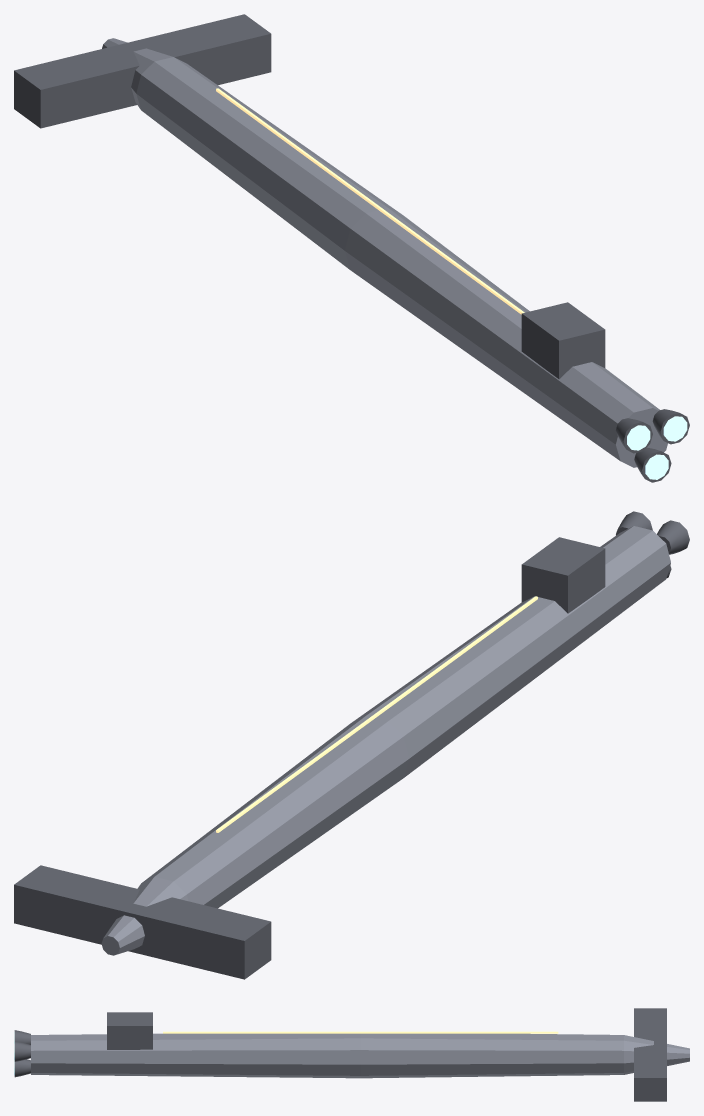
File: capital_distant_a.glb
The picture shows the model from 3 angles, top to bottom: view 1: azimuth 30°, elevation 25°; view 2: azimuth 150°, elevation 25°; view 3: azimuth 270°, elevation 25°; orthographic projection. The views are drawn at different scales.
Visible parts, largest first — view 1: Merged_CapitalHull, Merged_CapitalDark, Merged_CapitalStrip, Merged_CapitalEngine; view 2: Merged_CapitalHull, Merged_CapitalDark, Merged_CapitalStrip; view 3: Merged_CapitalHull, Merged_CapitalDark, Merged_CapitalStrip.
Part boxes in pixels (x1,y1,x2,y2): Merged_CapitalHull: [102, 38, 667, 467]; Merged_CapitalDark: [14, 14, 689, 482]; Merged_CapitalStrip: [216, 88, 524, 314]; Merged_CapitalEngine: [627, 416, 687, 479]; Merged_CapitalHull: [101, 526, 670, 955]; Merged_CapitalDark: [14, 511, 689, 979]; Merged_CapitalStrip: [216, 596, 537, 832]; Merged_CapitalHull: [31, 1033, 689, 1078]; Merged_CapitalDark: [14, 1008, 666, 1101]; Merged_CapitalStrip: [163, 1031, 558, 1033].
Size of the model in its own units: 50 by 19.04 by 205.
